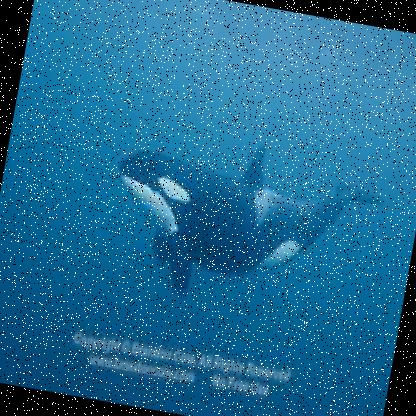killer_whale: (86, 113, 394, 347)
